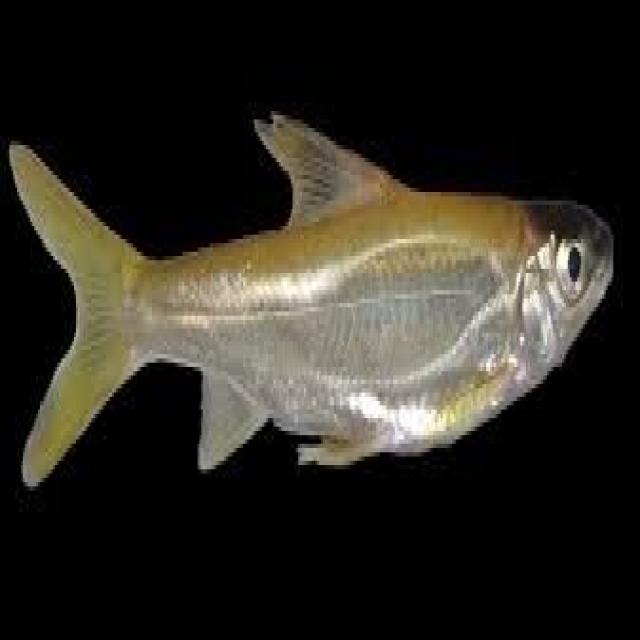Fourfinger-Threadfin: (7, 54, 626, 530)
